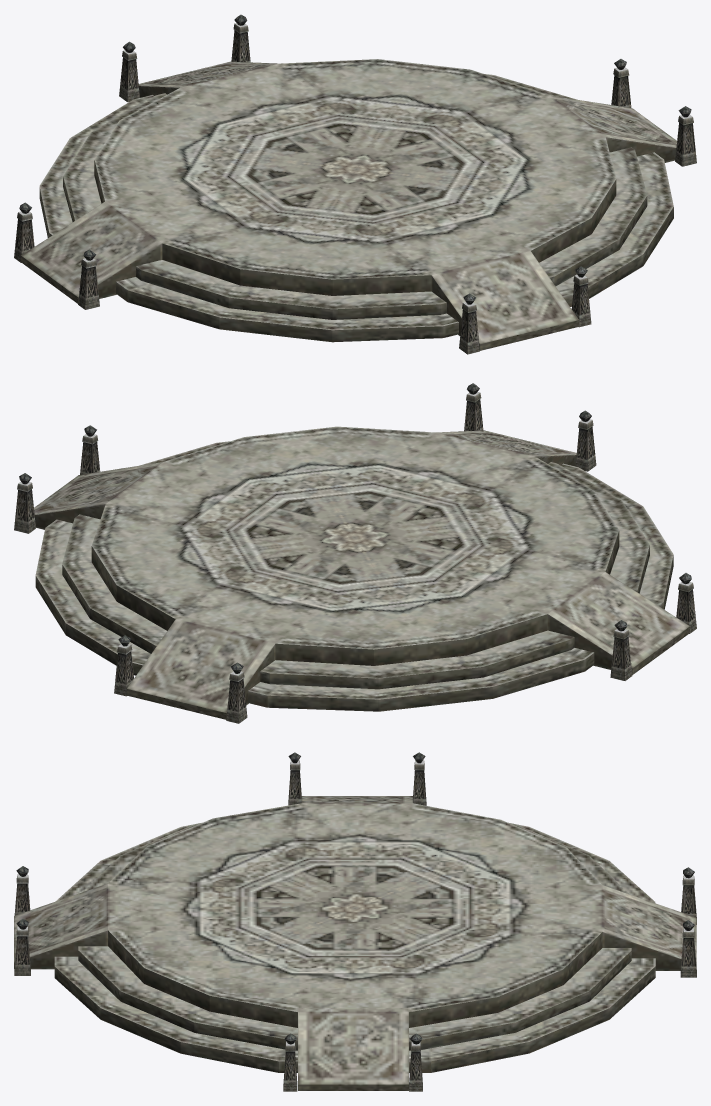
Rendered from warpgate03_01.fbx.
The picture shows the model from 3 angles, top to bottom: view 1: azimuth 30°, elevation 25°; view 2: azimuth 150°, elevation 25°; view 3: azimuth 270°, elevation 25°; orthographic projection. The views are drawn at different scales.
Visible parts, largest first — view 1: gate03; view 2: gate03; view 3: gate03.
Boxes of the visible parts, bbox=[...] form: gate03: bbox=[14, 14, 696, 354]; gate03: bbox=[14, 383, 696, 723]; gate03: bbox=[14, 752, 696, 1091].
Size of the model in its own units: 12.99 by 1.15 by 13.
